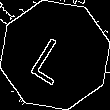L_NE: (29, 26, 81, 84)
